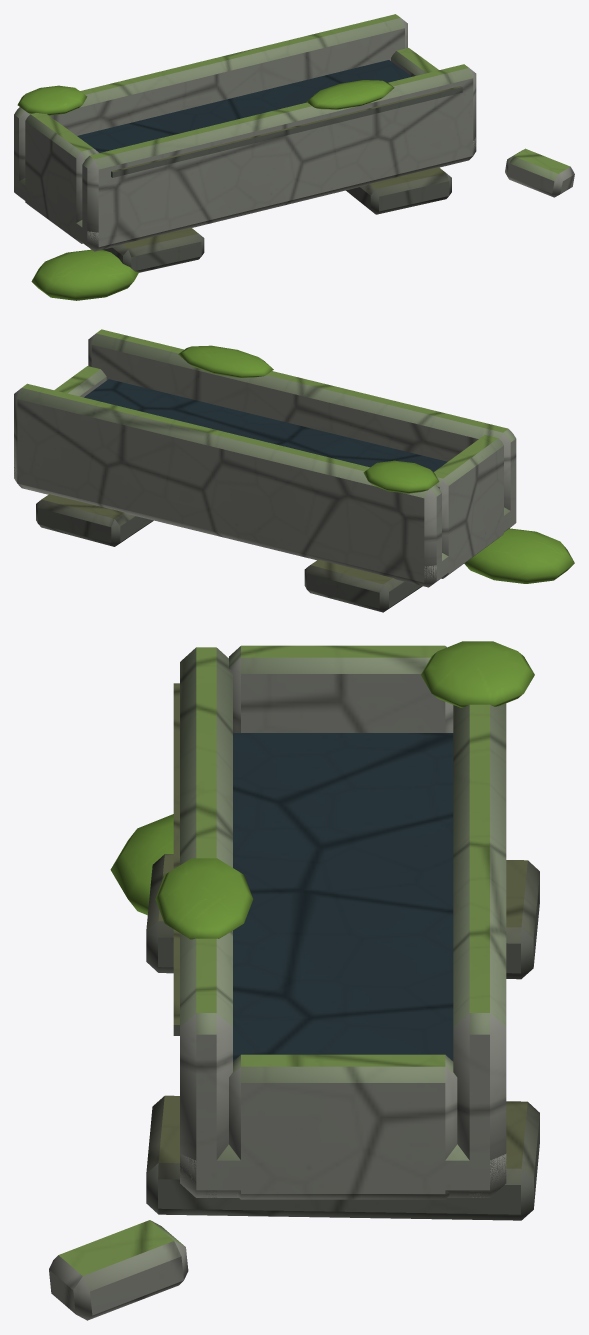
The model's file is stone_trough.glb.
3 views of the same model, one above another, from view 1: azimuth 30°, elevation 25°; view 2: azimuth 150°, elevation 25°; view 3: azimuth 270°, elevation 25° (orthographic). The views are drawn at different scales.
Parts seen in each view (by area): view 1: stone_trough; view 2: stone_trough; view 3: stone_trough.
Part boxes in pixels (x1=…): stone_trough: x1=14, y1=14, x2=574, y2=300; stone_trough: x1=14, y1=329, x2=574, y2=612; stone_trough: x1=49, y1=641, x2=539, y2=1320.
Size of the model in its own units: 2.87 by 0.75 by 1.2.
Materials: 4 (4 with a texture image).
